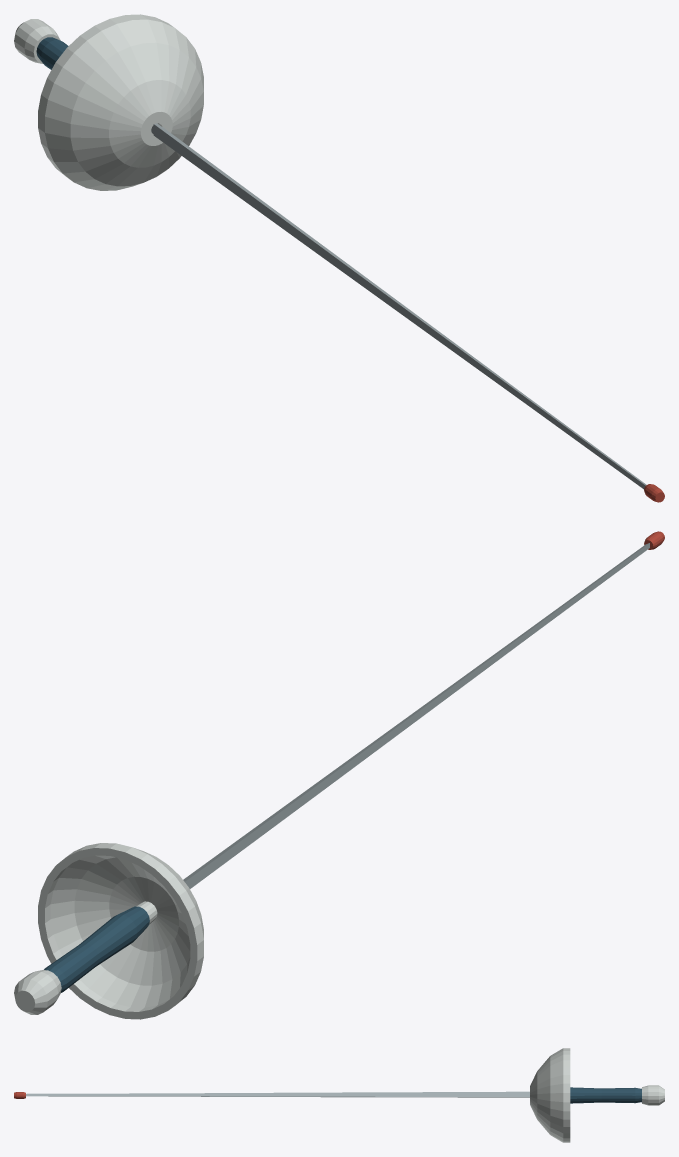
The picture shows the model from 3 angles, top to bottom: view 1: azimuth 30°, elevation 25°; view 2: azimuth 150°, elevation 25°; view 3: azimuth 270°, elevation 25°; orthographic projection. The views are drawn at different scales.
Visible parts, largest first — view 1: WholeDeepOpenCupGuard, WholeLongTaperedTriangularRod, WholeRearPommel; view 2: WholeDeepOpenCupGuard, WholeLongTaperedTriangularRod, WholeShortWaistedGrip, WholeRearPommel; view 3: WholeDeepOpenCupGuard, WholeLongTaperedTriangularRod, WholeShortWaistedGrip, WholeRearPommel.
Part boxes in pixels (x1,y1,x2,y2): WholeDeepOpenCupGuard: (38,14,203,190); WholeLongTaperedTriangularRod: (151,123,646,489); WholeRearPommel: (14,19,60,63); WholeDeepOpenCupGuard: (38,843,203,1019); WholeLongTaperedTriangularRod: (183,543,649,888); WholeShortWaistedGrip: (44,906,149,992); WholeRearPommel: (14,970,61,1014); WholeDeepOpenCupGuard: (530,1048,570,1142); WholeLongTaperedTriangularRod: (26,1091,529,1097); WholeShortWaistedGrip: (570,1087,641,1103); WholeRearPommel: (642,1085,664,1105).
Size of the model in its own units: 0.1592 by 0.1592 by 1.1.
